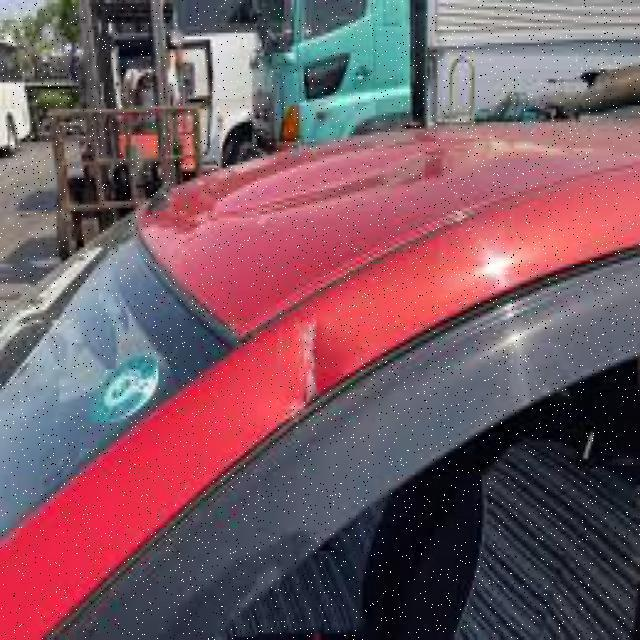roof-dent: (150, 120, 610, 434)
